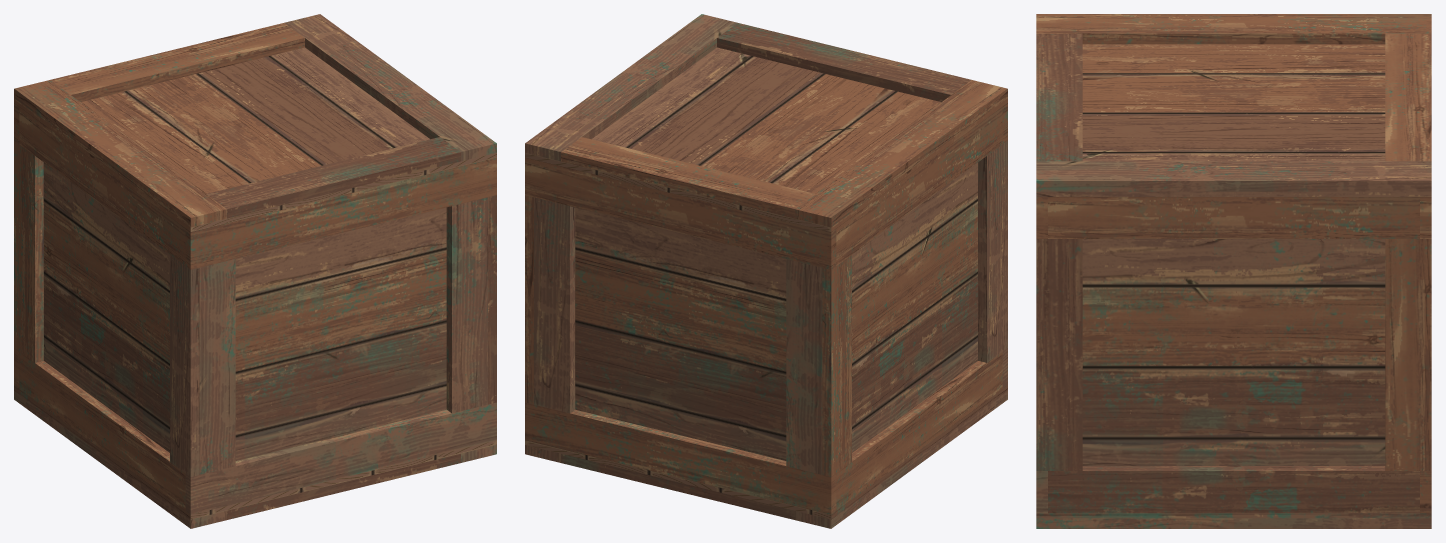
The model's file is crate02.FBX.
3 renders of one model, left to right at view 1: azimuth 30°, elevation 25°; view 2: azimuth 150°, elevation 25°; view 3: azimuth 270°, elevation 25°, orthographic. The views are drawn at different scales.
Visible parts, largest first — view 1: crate02, crate02_lid; view 2: crate02, crate02_lid; view 3: crate02, crate02_lid.
Part boxes in pixels (x1,y1,x2,y2): crate02: (14,103,496,528); crate02_lid: (14,14,496,231); crate02: (525,103,1007,528); crate02_lid: (525,14,1007,231); crate02: (1036,197,1431,528); crate02_lid: (1036,14,1431,196).
Bounding box in the file's own units: 68 × 66 × 68.
